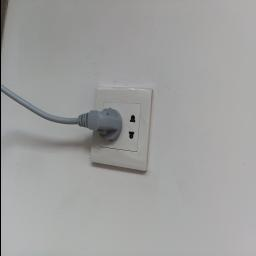outlet: (85, 80, 156, 172)
